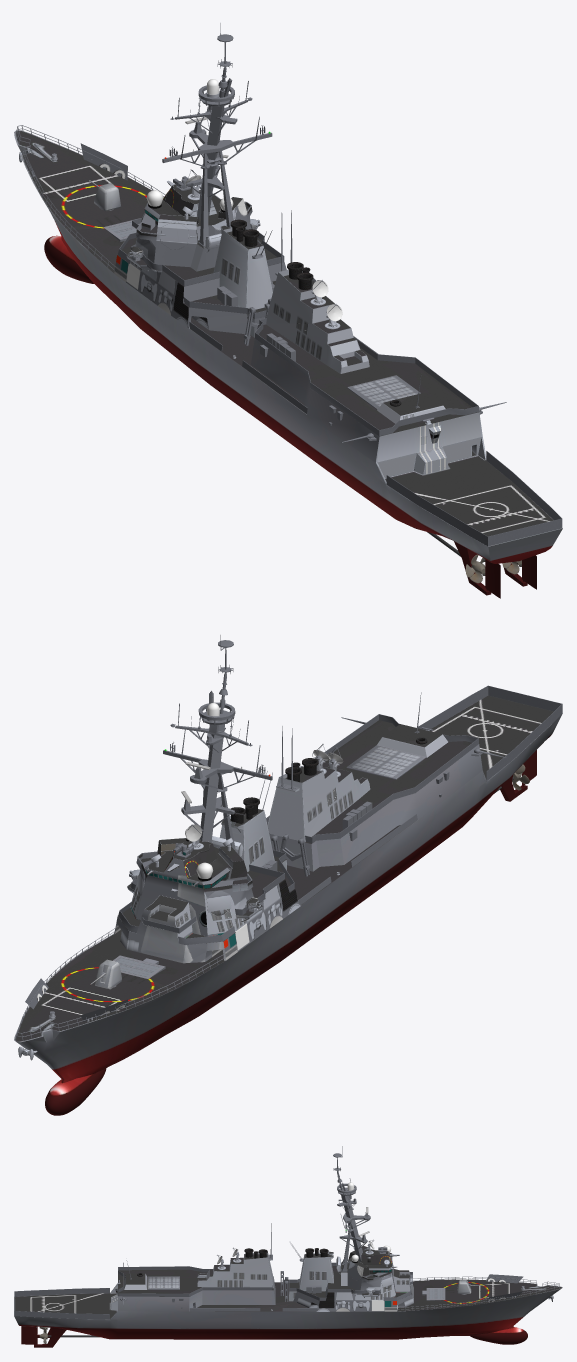
Rendered from ddg83.glb.
3 renders of one model, top to bottom at view 1: azimuth 30°, elevation 25°; view 2: azimuth 150°, elevation 25°; view 3: azimuth 270°, elevation 25°, orthographic. The views are drawn at different scales.
Parts seen in each view (by area): view 1: Asset3DLoader.sceneRoot; view 2: Asset3DLoader.sceneRoot; view 3: Asset3DLoader.sceneRoot.
Boxes of the visible parts, <box> form: Asset3DLoader.sceneRoot: <box>14,23,562,598</box>; Asset3DLoader.sceneRoot: <box>14,635,562,1115</box>; Asset3DLoader.sceneRoot: <box>14,1146,562,1347</box>.
Bounding box in the file's own units: 31.66 × 68 × 169.
3 materials, 3 textured.
